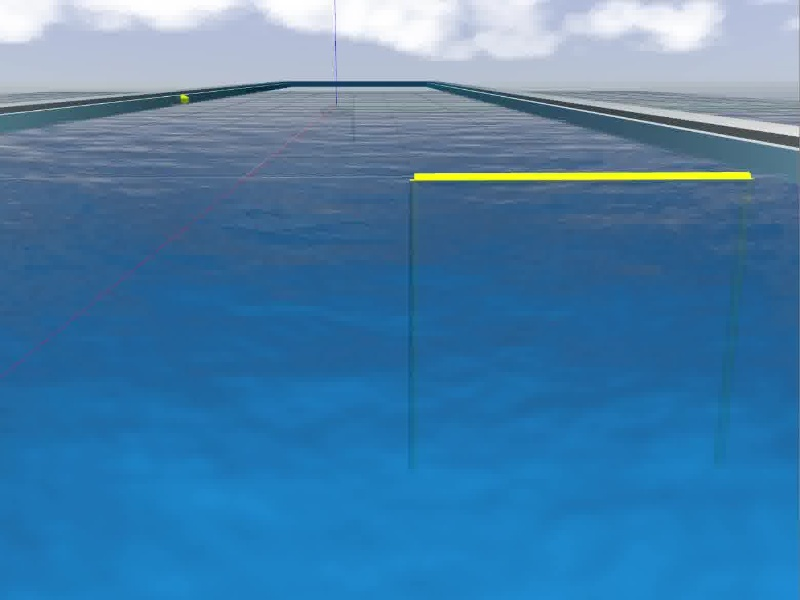gate: (408, 171, 757, 469)
